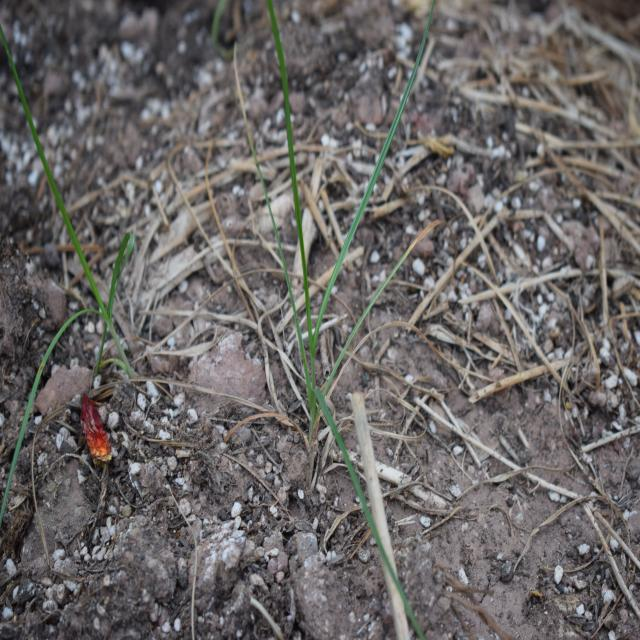sedge: (234, 19, 490, 600)
